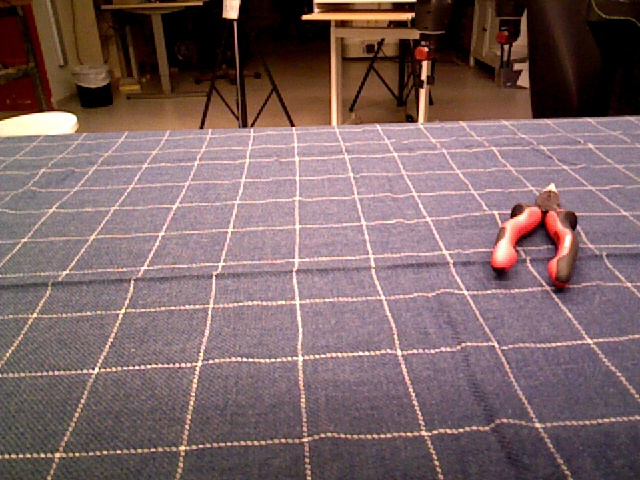plier1: (490, 181, 580, 290)
